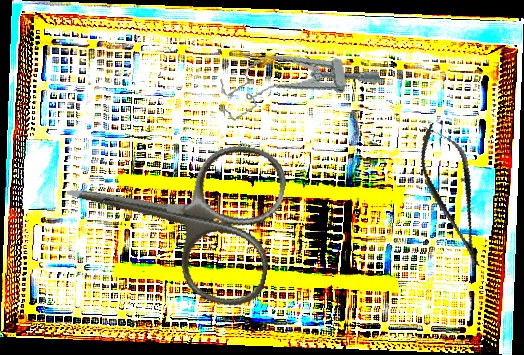Iris Scissors: (51, 111, 292, 313)
Micro Scissor: (409, 116, 497, 275)
Speculum: (215, 37, 383, 123)
